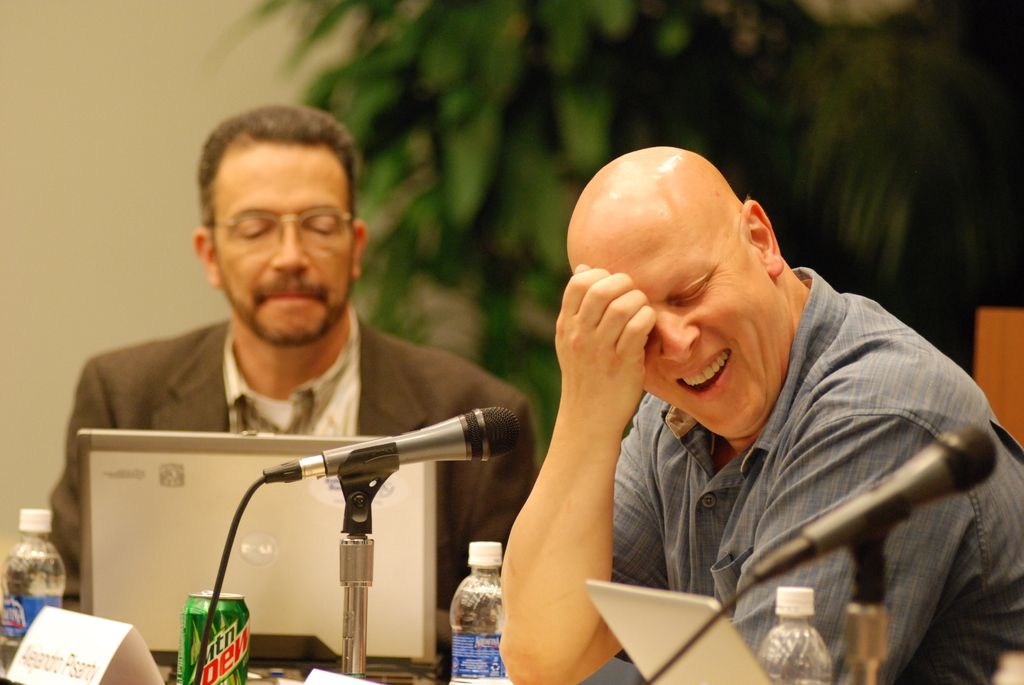Human-face: (575, 219, 790, 441), (207, 148, 358, 335)
